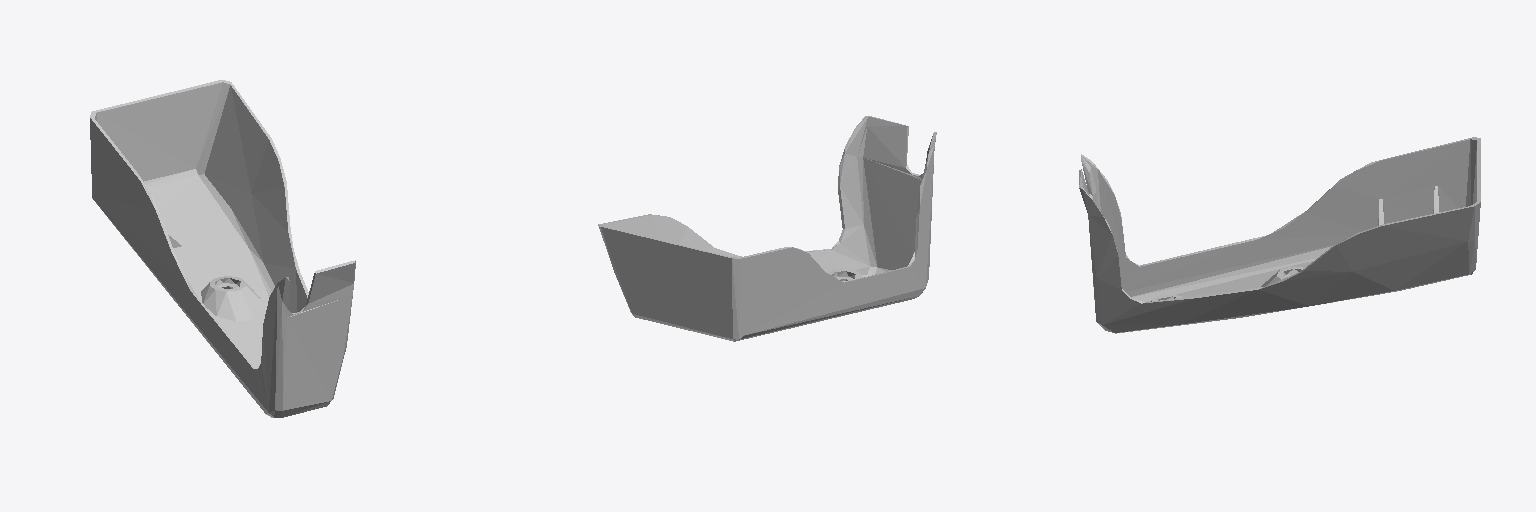
File: leftside_back.obj
3 renders of one model, left to right at view 1: azimuth 30°, elevation 25°; view 2: azimuth 150°, elevation 25°; view 3: azimuth 270°, elevation 25°, orthographic.
Parts seen in each view (by area): view 1: Left_back_part; view 2: Left_back_part; view 3: Left_back_part.
Boxes of the visible parts, x1,y1,x2,y2 form: Left_back_part: [90, 80, 355, 417]; Left_back_part: [598, 116, 936, 341]; Left_back_part: [1079, 137, 1480, 333].
Size of the model in its own units: 0.0841 by 0.0959 by 0.2015.